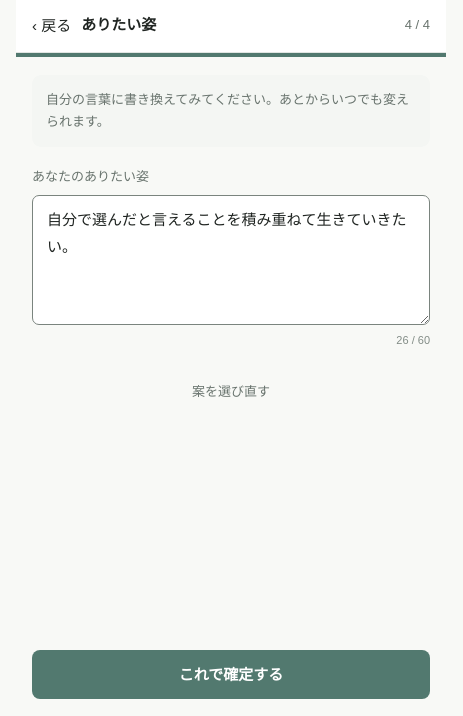
Test case: S-35 › 空文字では「これで確定する」が無効
Clear the text box with id "s35-statement": (231, 260) [32, 195, 430, 325]
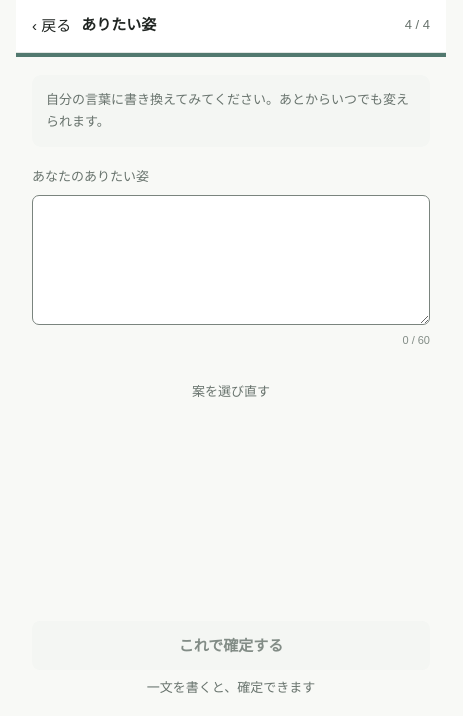
Check: the button with class "app-button--primary" is disabled, box [32, 621, 430, 670]
Check: the text "一文を書くと、確定できます" is shown, box [147, 680, 315, 695]
